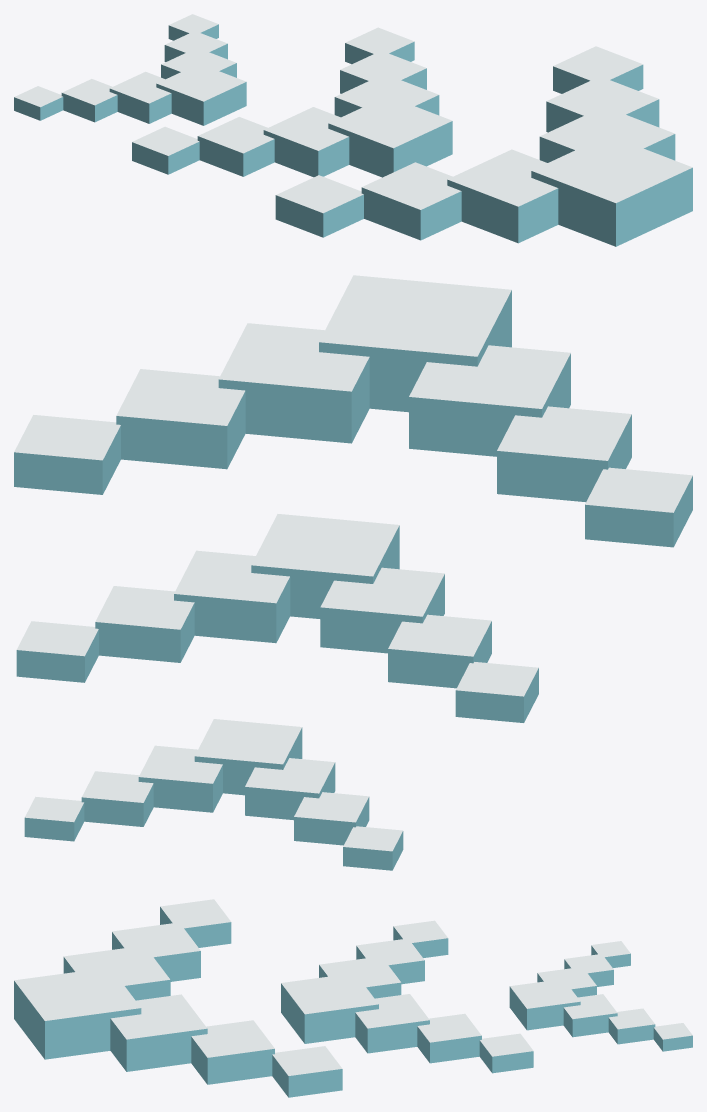
File: fx_quickhands.glb
3 renders of one model, top to bottom at view 1: azimuth 30°, elevation 25°; view 2: azimuth 150°, elevation 25°; view 3: azimuth 270°, elevation 25°, orthographic. The views are drawn at different scales.
Visible parts, largest first — view 1: quick_hands_chevron_1, quick_hands_chevron_2, quick_hands_chevron_3; view 2: quick_hands_chevron_1, quick_hands_chevron_2, quick_hands_chevron_3; view 3: quick_hands_chevron_1, quick_hands_chevron_2, quick_hands_chevron_3.
Part boxes in pixels (<box>): quick_hands_chevron_1: <box>275,46,692,246</box>; quick_hands_chevron_2: <box>132,27,452,177</box>; quick_hands_chevron_3: <box>14,14,246,125</box>; quick_hands_chevron_1: <box>14,275,692,547</box>; quick_hands_chevron_2: <box>16,514,538,722</box>; quick_hands_chevron_3: <box>24,719,403,870</box>; quick_hands_chevron_1: <box>14,899,342,1097</box>; quick_hands_chevron_2: <box>281,920,533,1073</box>; quick_hands_chevron_3: <box>509,941,692,1051</box>.
Size of the model in its own units: 1.16 by 0.2392 by 1.74.
